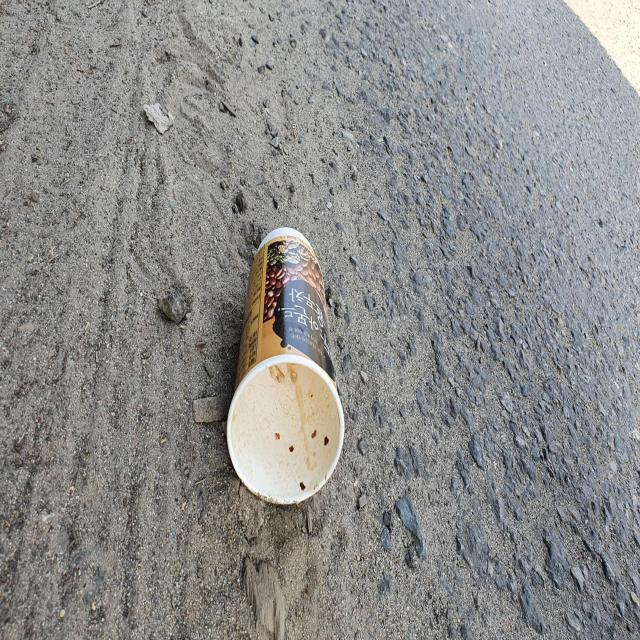paperpack: (227, 227, 345, 504)
